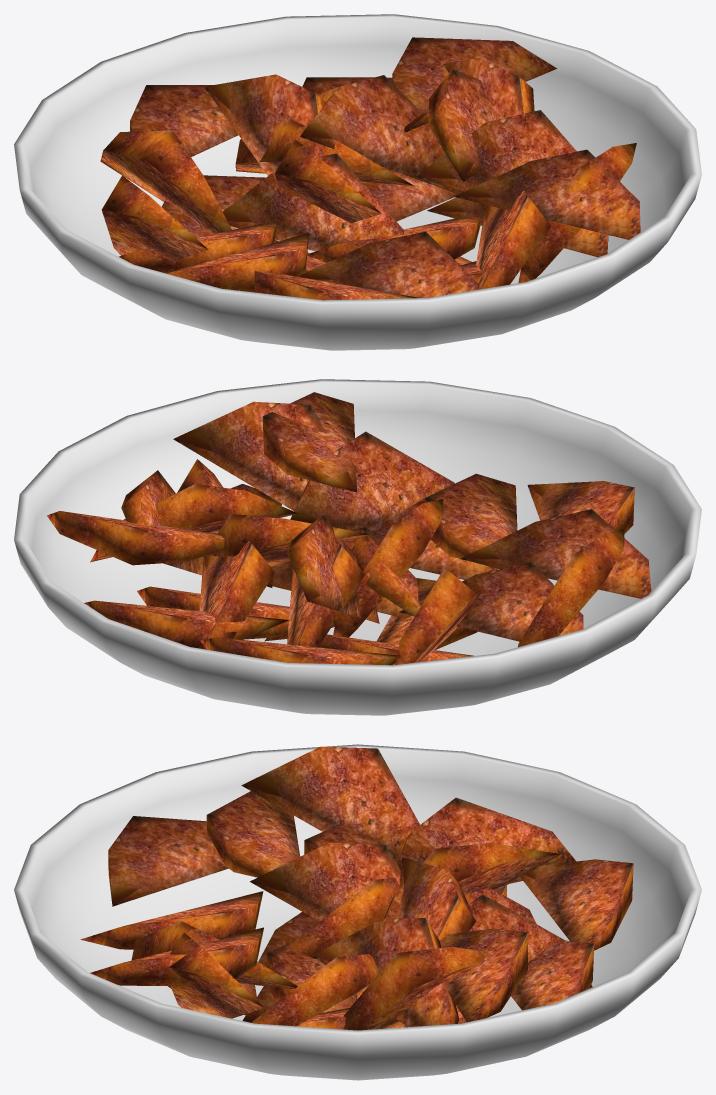
The model's file is potatoWedges.fbx.
The picture shows the model from 3 angles, top to bottom: view 1: azimuth 30°, elevation 25°; view 2: azimuth 150°, elevation 25°; view 3: azimuth 270°, elevation 25°; orthographic projection.
Visible parts, largest first — view 1: Potato Wedges, Bowl; view 2: Potato Wedges, Bowl; view 3: Potato Wedges, Bowl.
Part boxes in pixels (x1,y1,x2,y2): Potato Wedges: (100, 37, 640, 300); Bowl: (14, 14, 701, 350); Potato Wedges: (47, 392, 651, 665); Bowl: (14, 379, 701, 715); Potato Wedges: (80, 746, 633, 1030); Bowl: (14, 744, 701, 1080).
Size of the model in its own units: 20.72 by 4.8 by 20.72.
29 materials, 28 textured.
